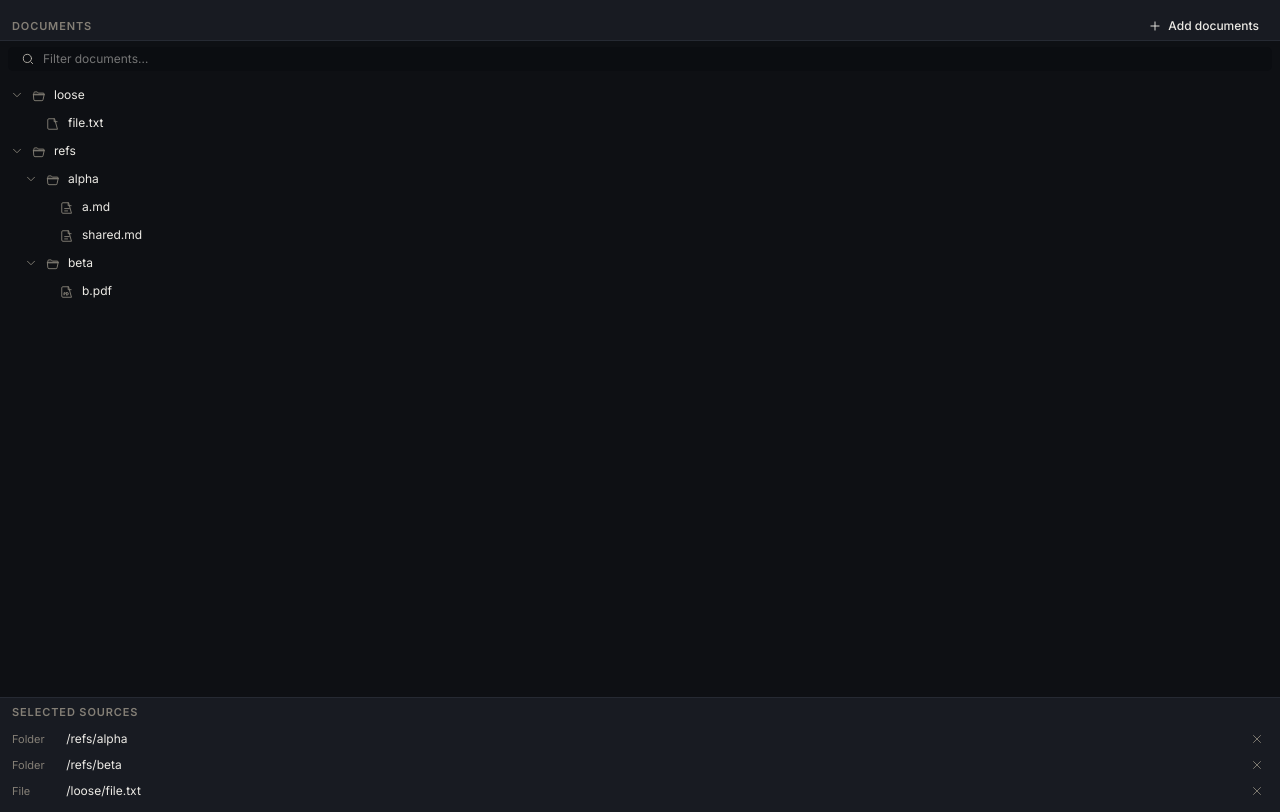
DPN-FR-ZMBQ: the Add documents choice › DPN-FR-ZMBQ: Escape closes the choice with no change and returns the focus to Add documents
Check: the element showing "loose file.txt refs alpha a.md shared.md beta b.pdf" is shown, box top-left (10, 87), bottom-right (142, 299)
Click the button "Add documents" at {"x": 1204, "y": 26}, box top-left (1139, 14), bottom-right (1268, 38)
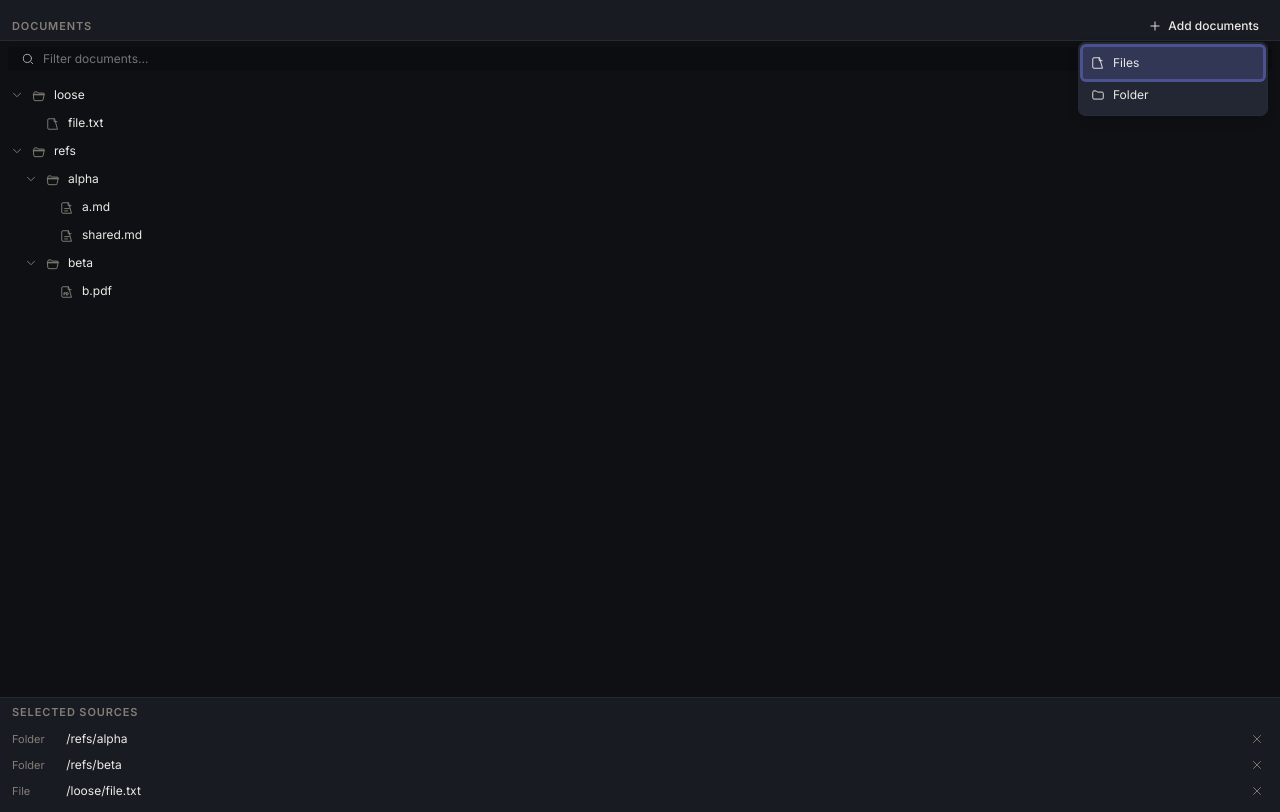
Press Escape
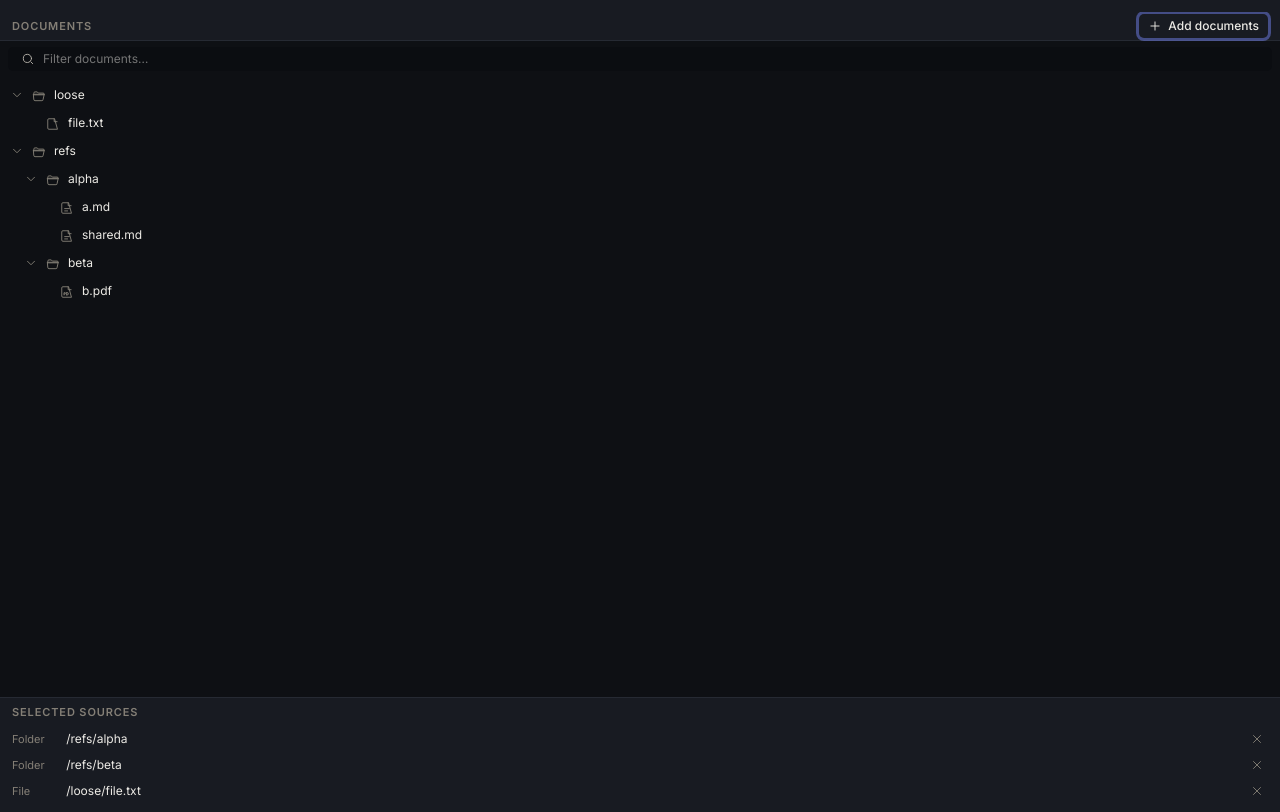
Check: the menu is gone
